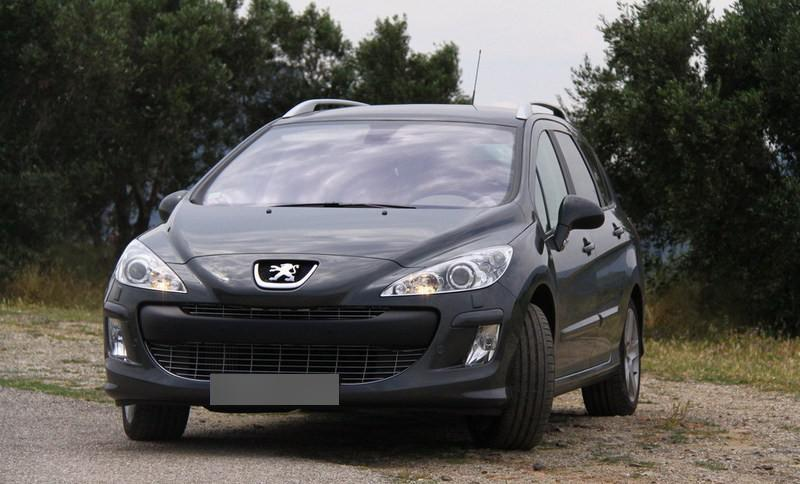Wagon: (102, 98, 646, 452)
